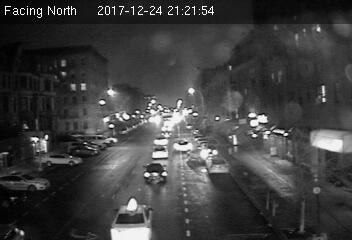car: (108, 197, 159, 239), (142, 162, 170, 185), (205, 155, 229, 175), (173, 139, 194, 154), (151, 145, 169, 160), (151, 134, 170, 145)
